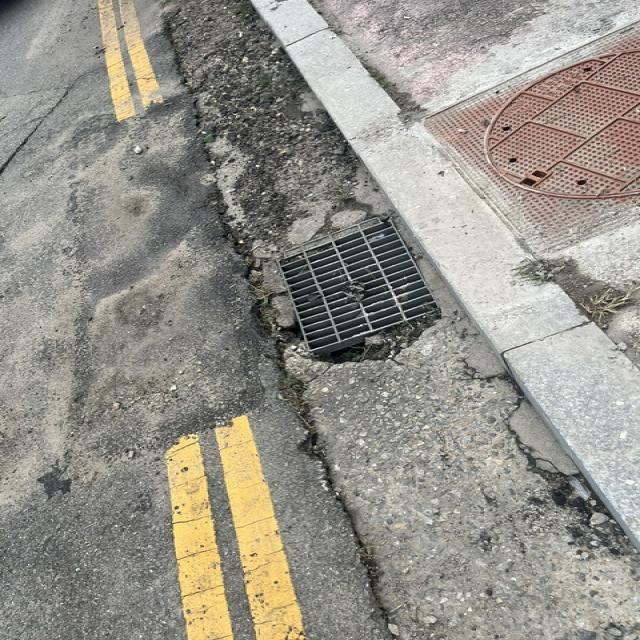drain_area: (282, 222, 439, 351)
drain_full: (274, 214, 439, 351)
